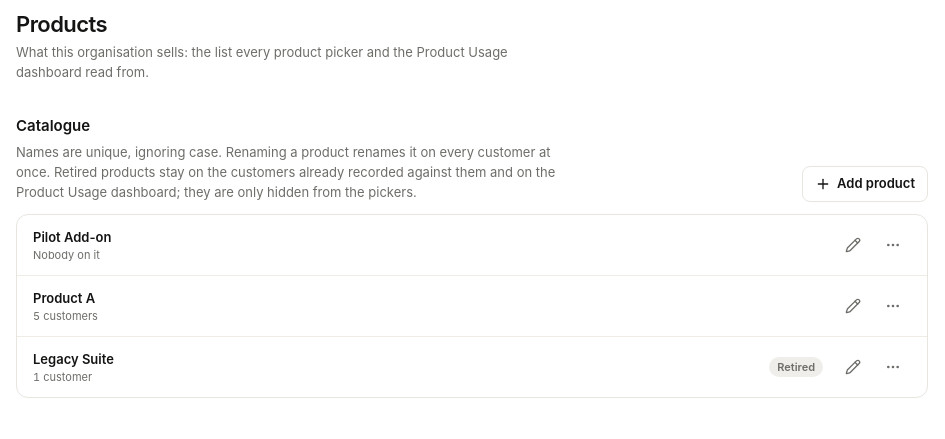
Test: Products on the settings frame (UI foundations spec §6.3, §4.2) › keyboard focus › a failed Retire shows the row alert and puts focus on that row's menu
The image size is (945, 439).
expect the text "Pilot Add-on" is shown: met, box [33,229,111,245]
Step 1. Click the button named "More actions for Pilot Add-on" → (893, 245), box [875,227,911,263]
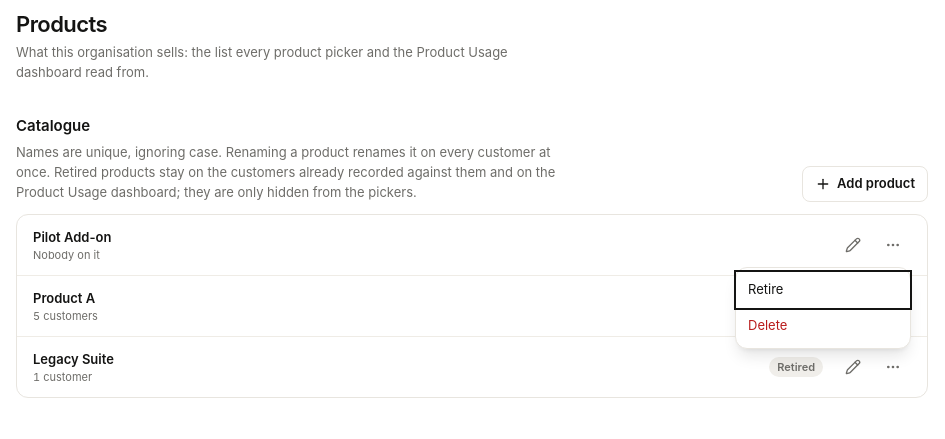
Step 2. Click the menu item "Retire" → (823, 290), box [736,272,910,308]
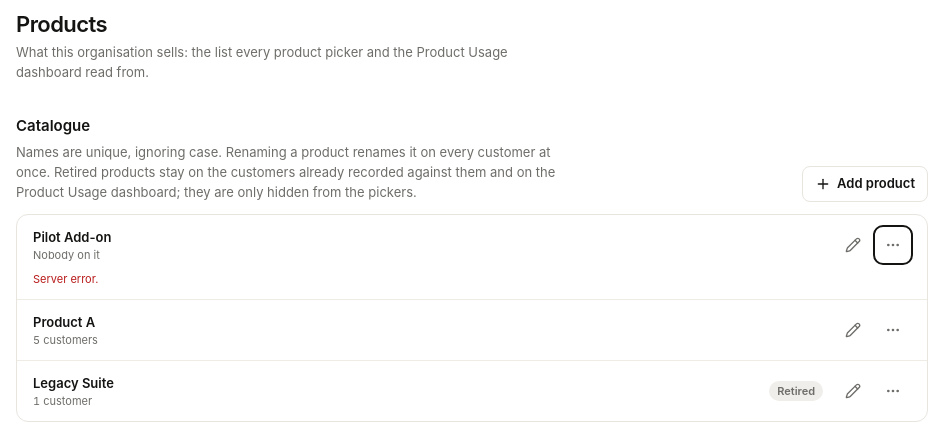
expect the message reads "Server error.": met, box [33,272,98,286]
